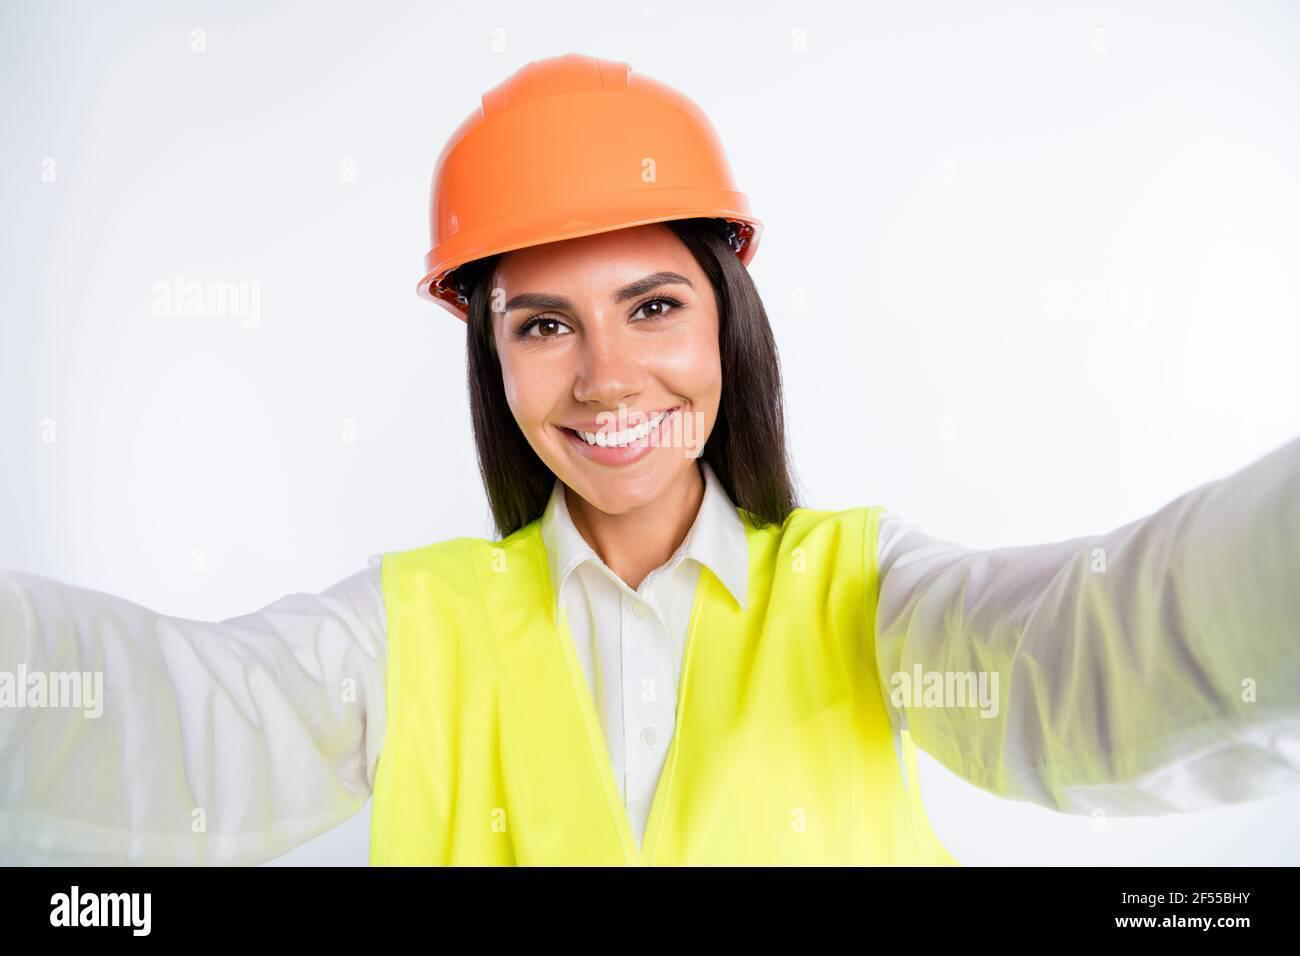helmet: (415, 49, 764, 321)
